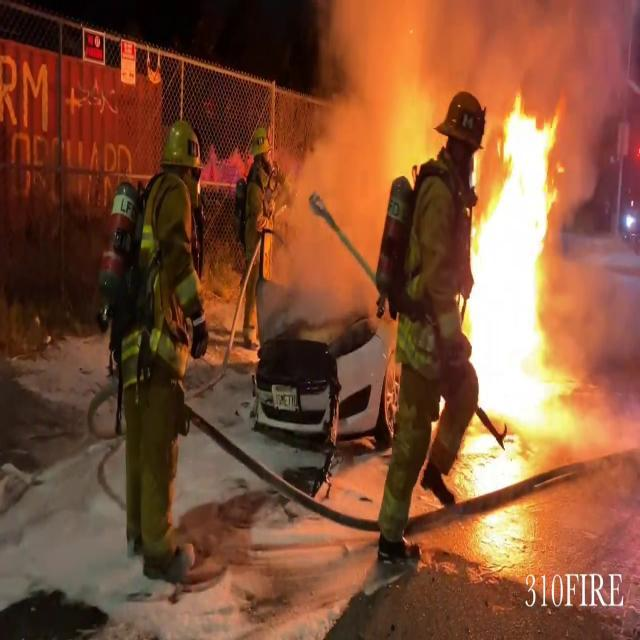Fire: (453, 89, 588, 432)
Smoke: (267, 0, 485, 301)
